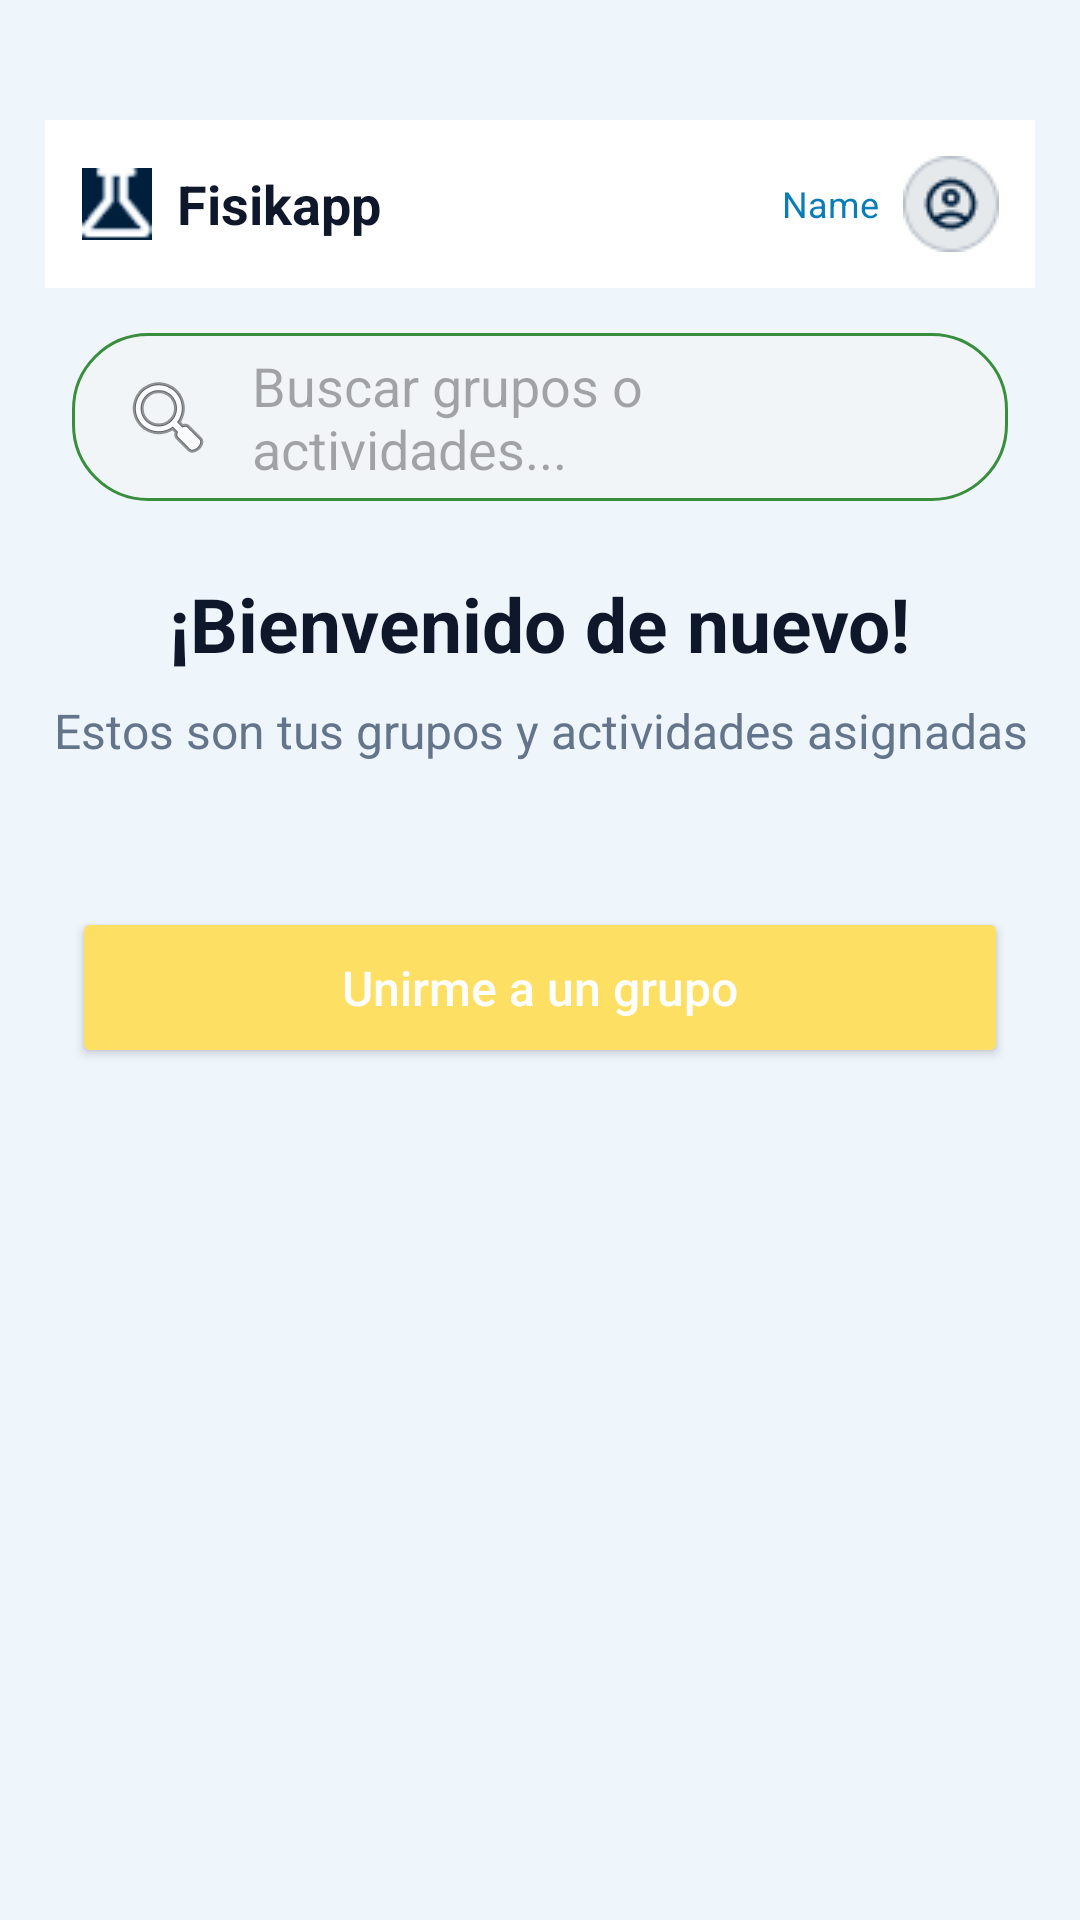

Where icons sit on this 1080px×1920px app screen, as box(x1, y1, x2, y2):
iconofisik: box(82, 168, 152, 240)
iconousuario: box(903, 156, 999, 252)
